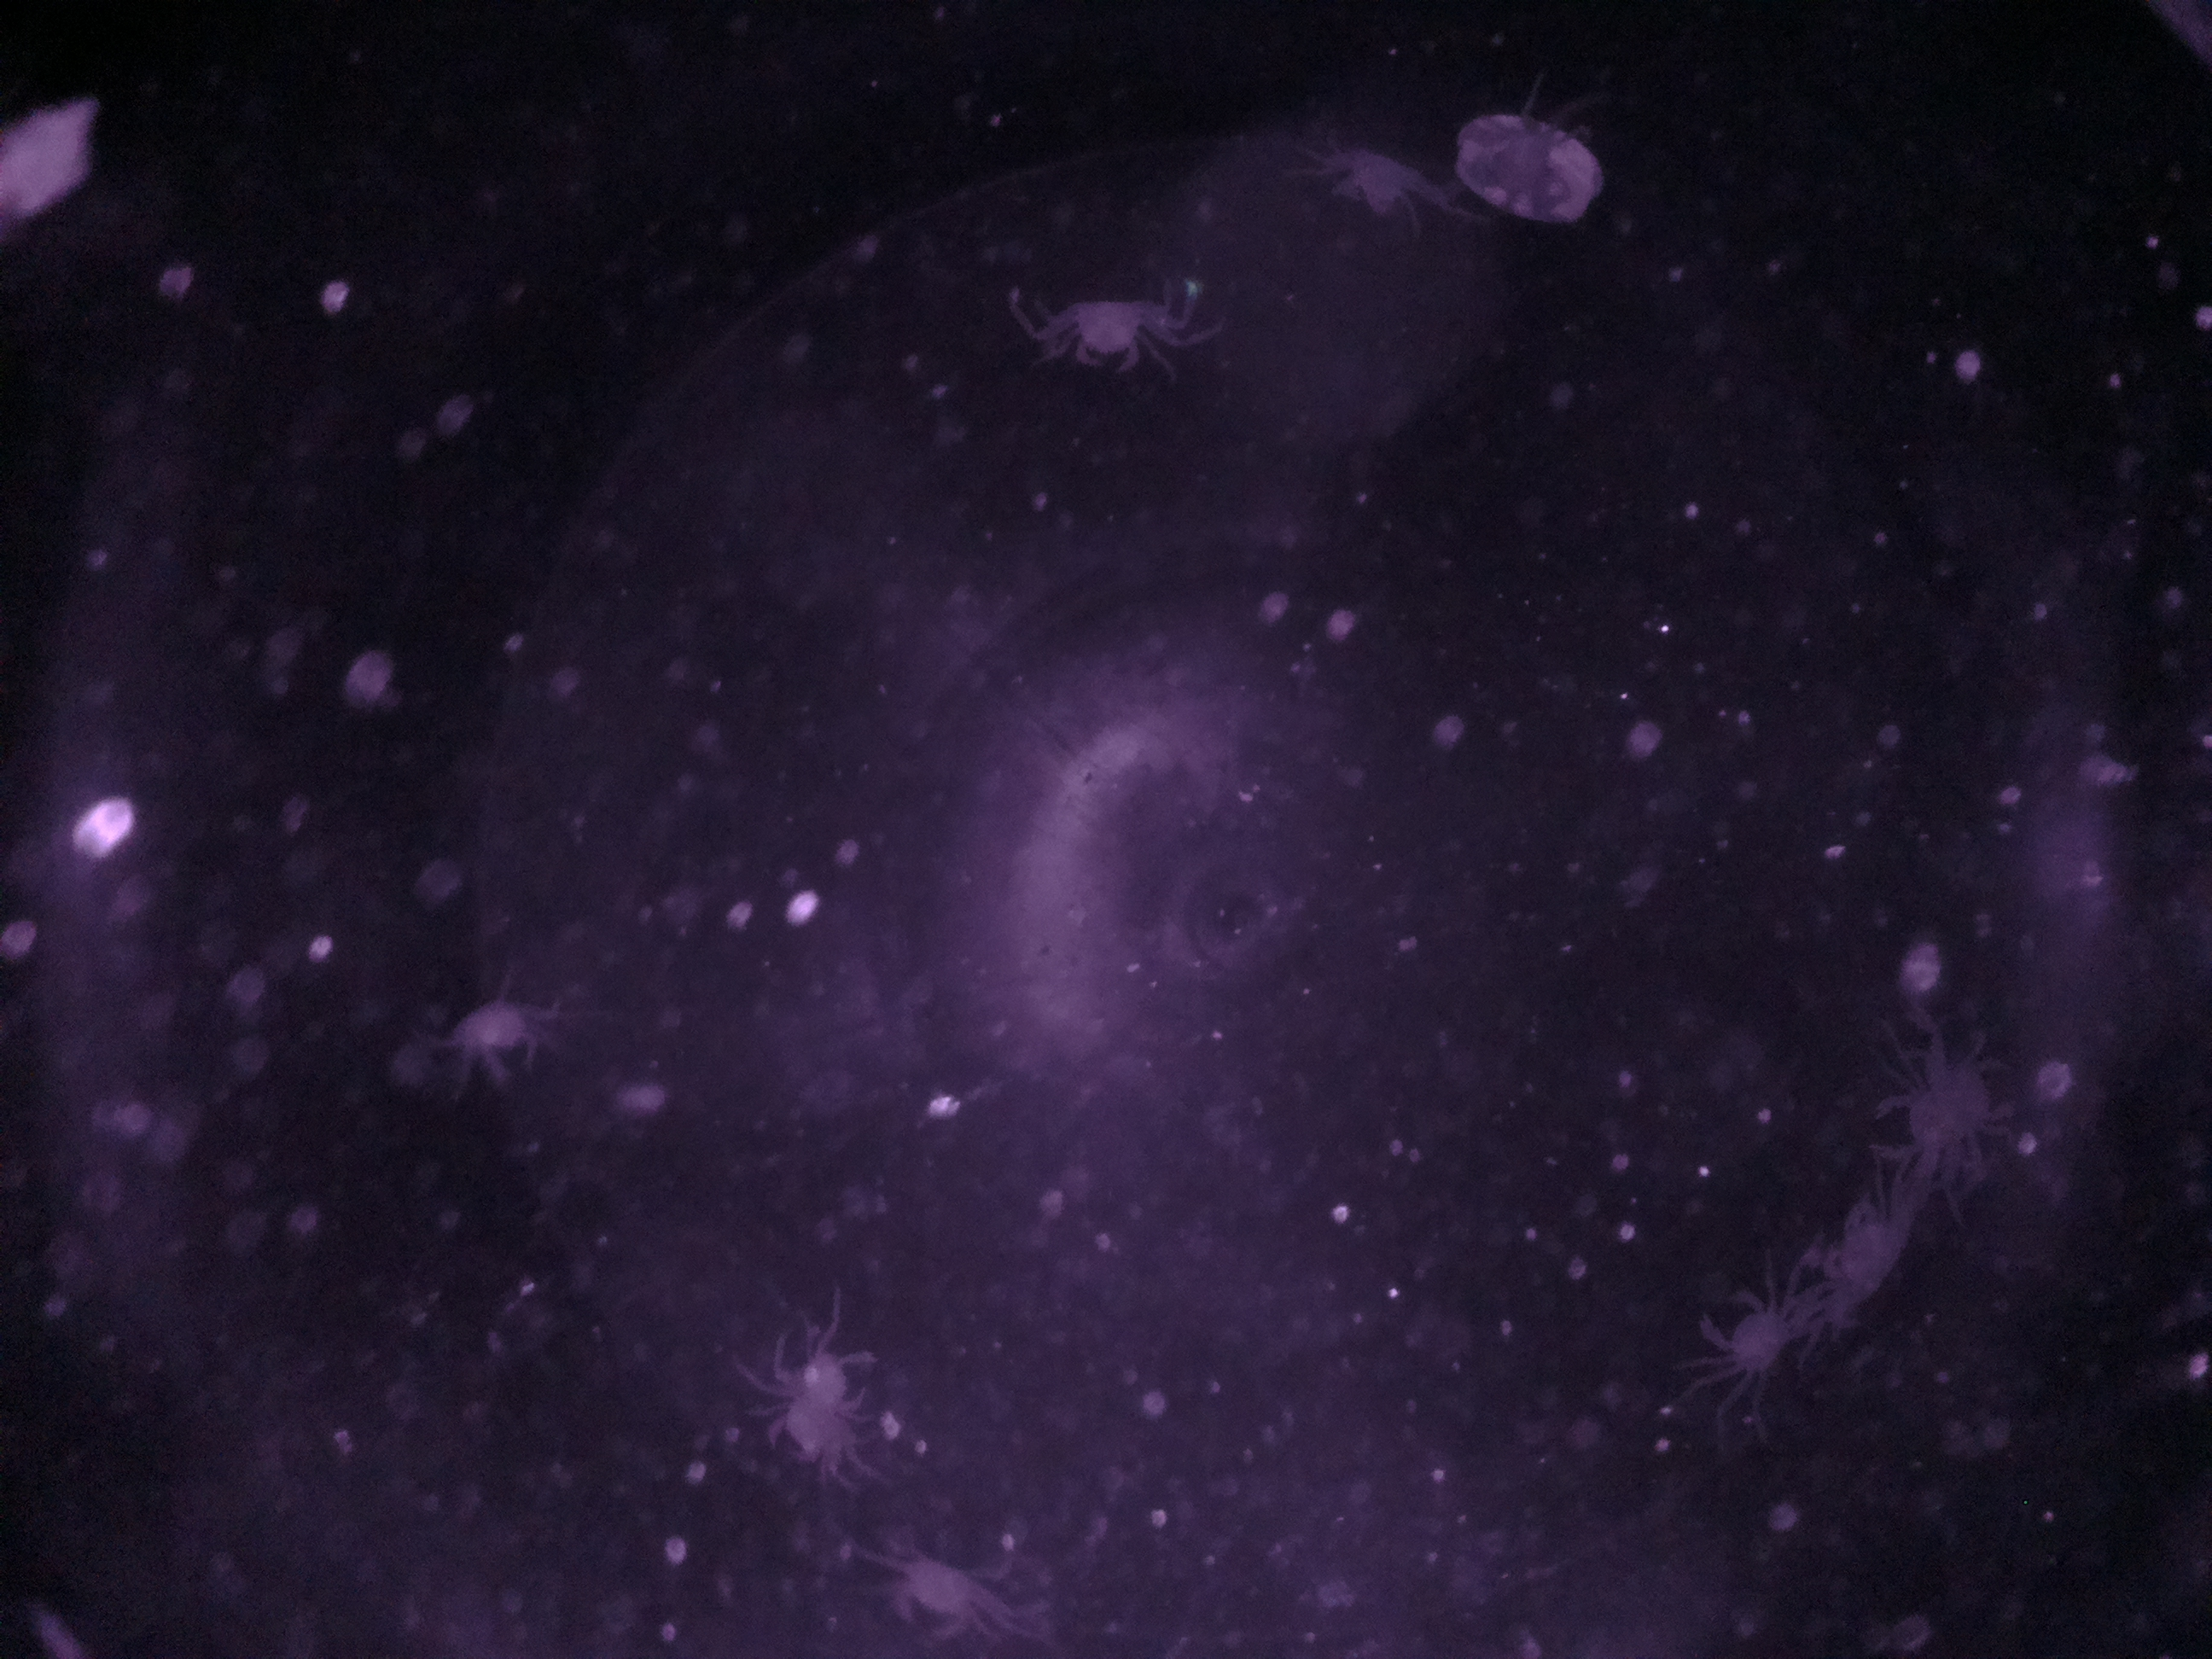Crab: (1855, 1073, 1996, 1175), (880, 1532, 998, 1650), (1693, 1274, 1803, 1387), (456, 979, 549, 1089), (1049, 291, 1153, 380), (1320, 139, 1423, 223)
